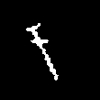double_crochet: (26, 23, 57, 79)
